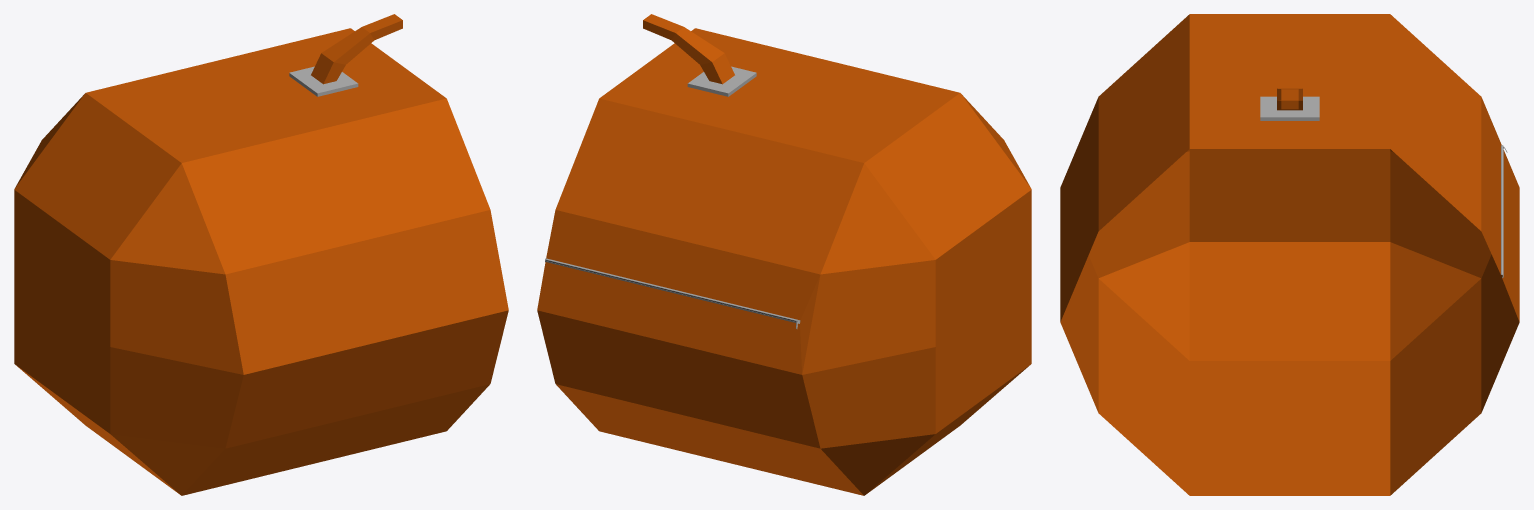
File: luggage1.gltf
3 renders of one model, left to right at view 1: azimuth 30°, elevation 25°; view 2: azimuth 150°, elevation 25°; view 3: azimuth 270°, elevation 25°, orthographic. The views are drawn at different scales.
Parts seen in each view (by area): view 1: Cube; view 2: Cube; view 3: Cube.
Boxes of the visible parts, x1,y1,x2,y2 form: Cube: (14, 14, 508, 495); Cube: (537, 14, 1031, 495); Cube: (1060, 14, 1519, 495).
Size of the model in its own units: 2.12 by 2.28 by 2.4.
Materials: 1 (1 with a texture image).
